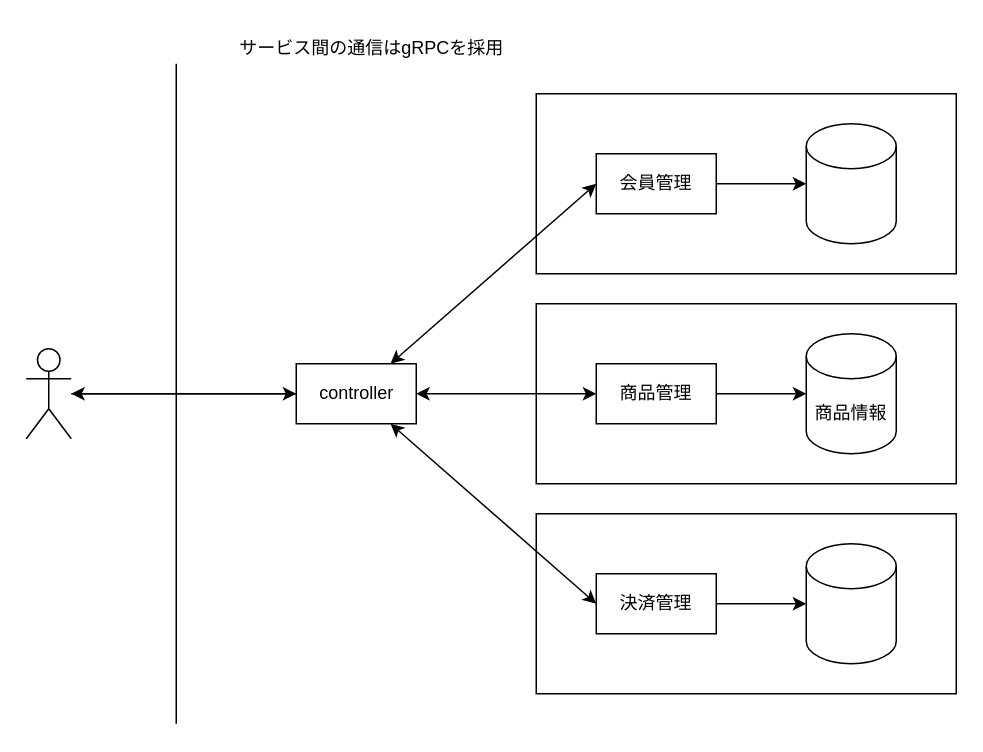
Some shapes in this 983 by 752 pixel diagram are drawn without their labels. Here are the shapes that lost their labels. From the top down, the box of each, then its label:
(805, 122, 896, 244): 会員情報
(25, 347, 71, 439): Actor
(805, 542, 896, 664): 決済情報
